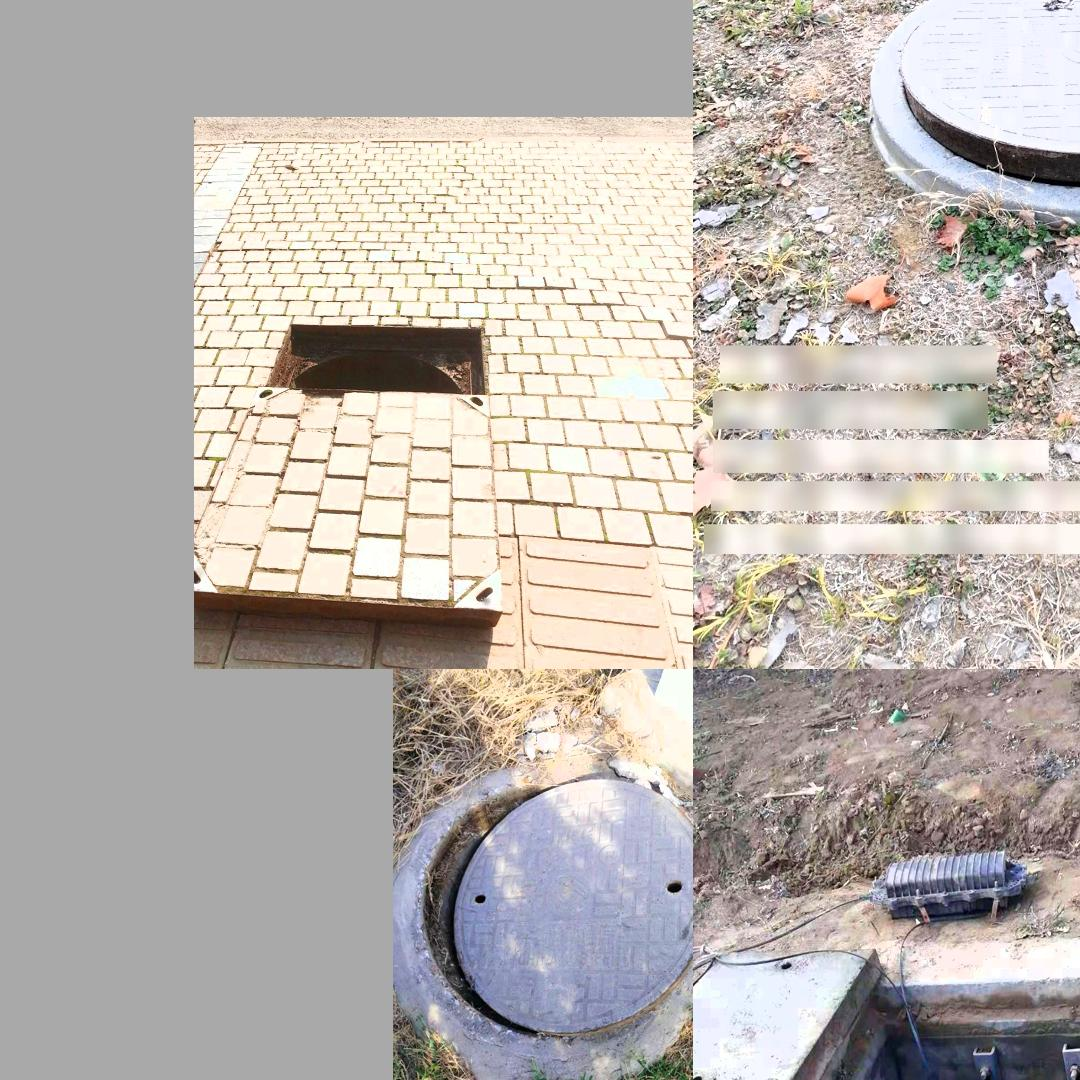uncovered: (198, 320, 504, 622), (413, 773, 691, 1053), (699, 909, 1080, 1080), (870, 0, 1080, 233)
